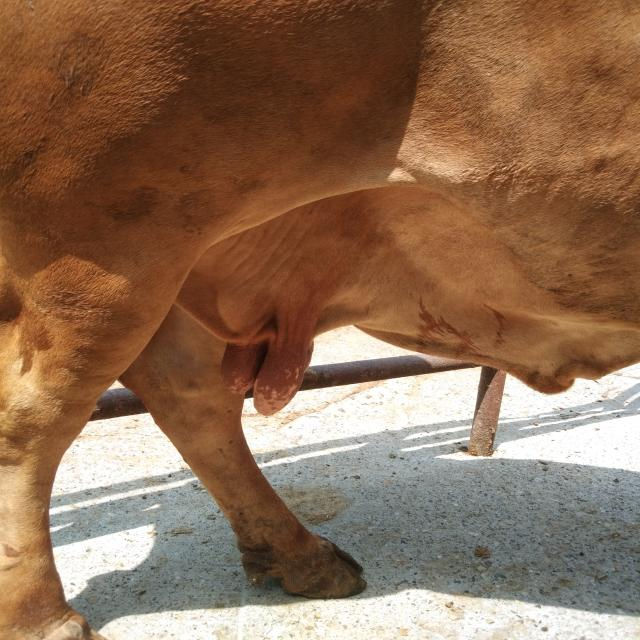Hoof: (240, 533, 367, 600), (0, 608, 107, 639)
